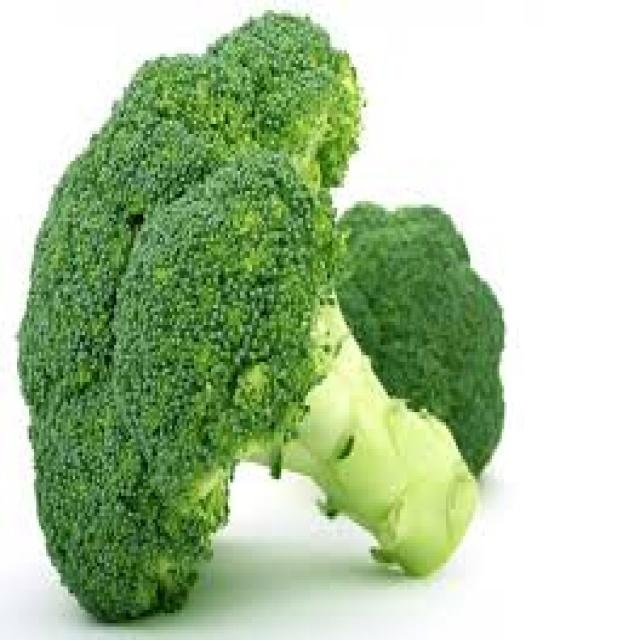organic waste: (12, 10, 475, 620), (332, 205, 502, 480)
